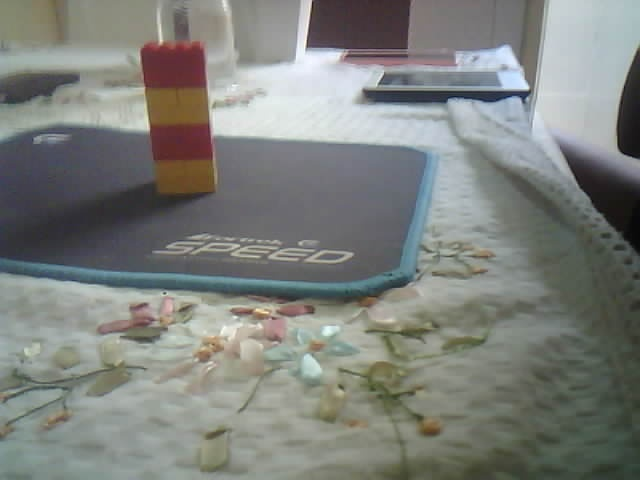lego: (137, 39, 218, 196)
